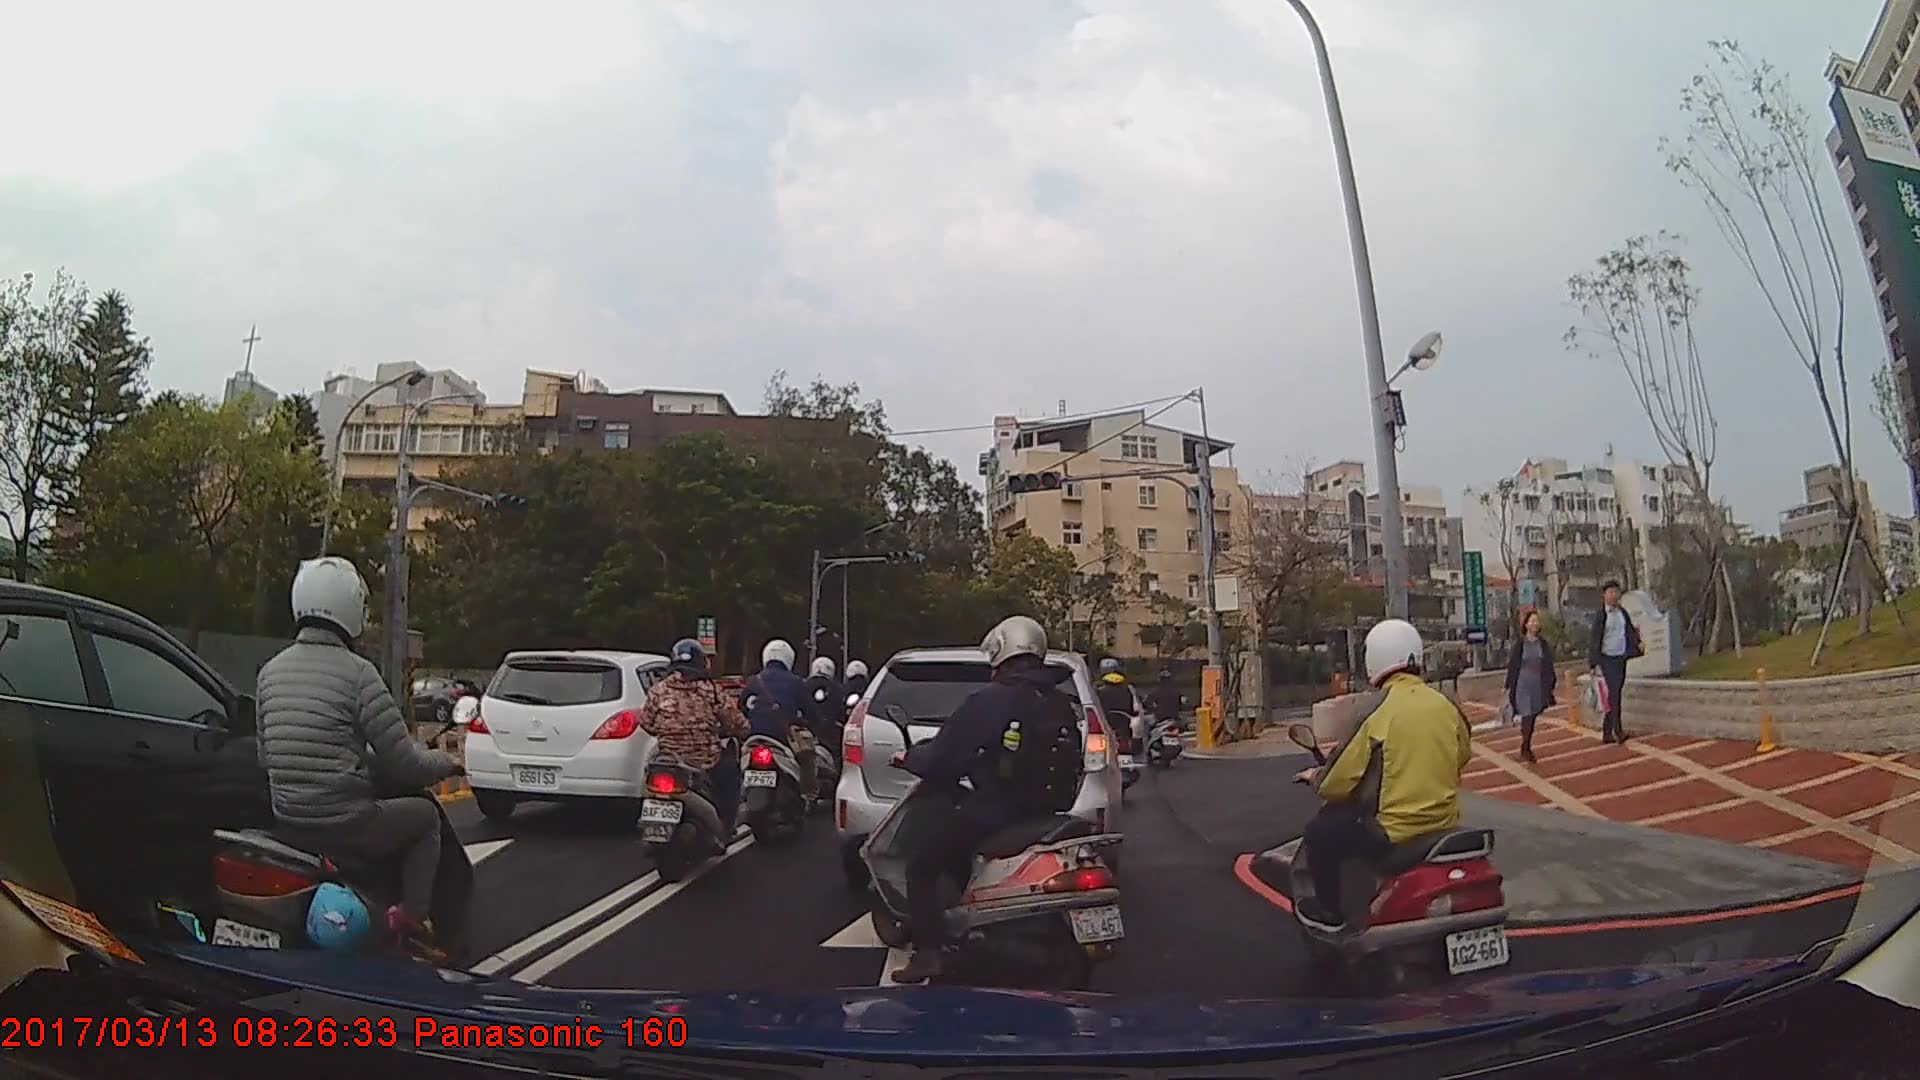pedestrian: (1493, 610, 1561, 773), (1585, 580, 1650, 744)
rider: (199, 555, 480, 1020), (859, 614, 1134, 997), (1289, 618, 1511, 1015), (636, 638, 750, 886), (731, 635, 830, 843), (1084, 656, 1142, 799), (802, 657, 857, 799), (1142, 673, 1188, 762)
vehicle: (0, 576, 388, 955), (835, 643, 1118, 891), (461, 648, 738, 825), (392, 675, 481, 723)
